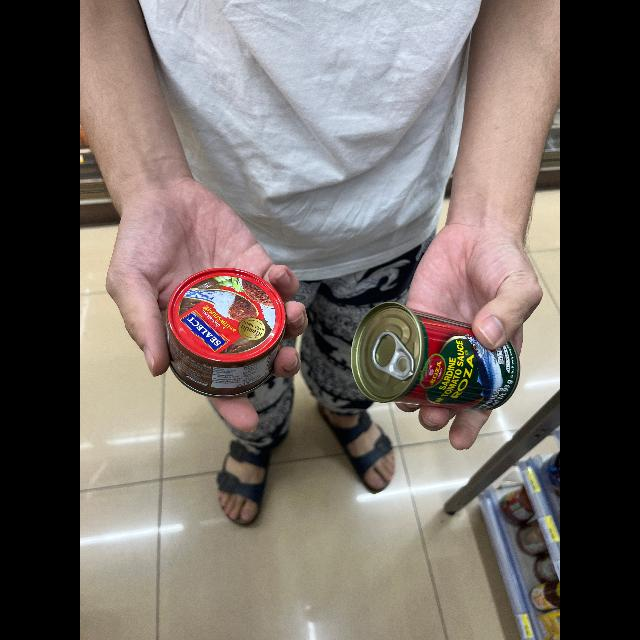can: (344, 298, 528, 414), (157, 256, 291, 402)
